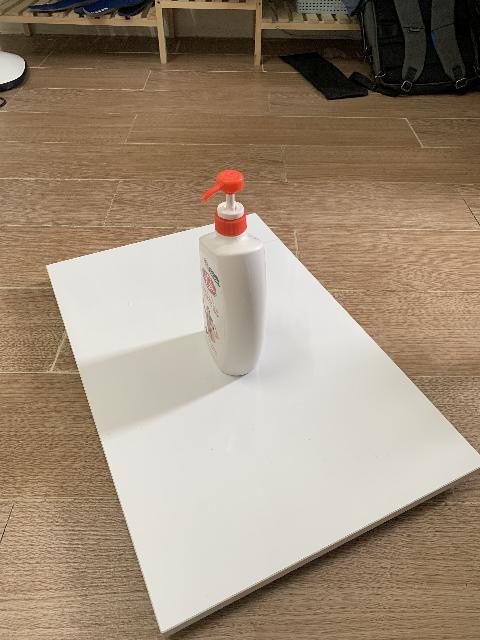life-buoy: (199, 169, 267, 376)
